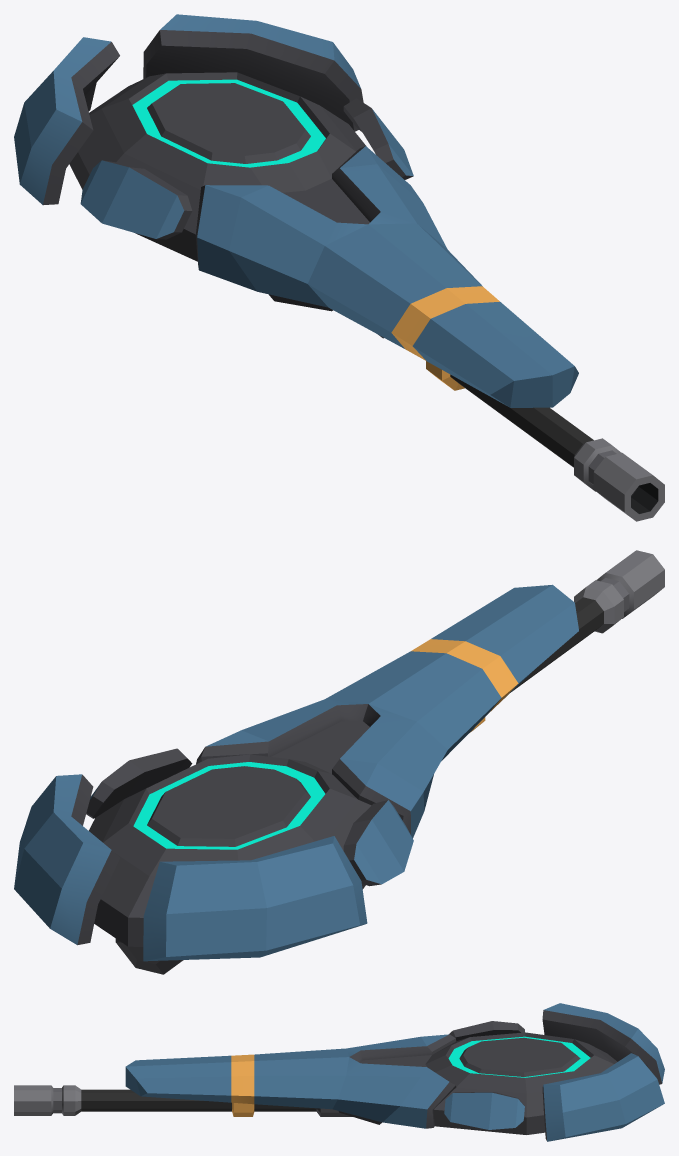
Rendered from Laser_Turret.glb.
3 views of the same model, one above another, from view 1: azimuth 30°, elevation 25°; view 2: azimuth 150°, elevation 25°; view 3: azimuth 270°, elevation 25° (orthographic). The views are drawn at different scales.
Parts seen in each view (by area): view 1: SM_Veh_Part_Misc_06; view 2: SM_Veh_Part_Misc_06; view 3: SM_Veh_Part_Misc_06.
Part boxes in pixels (x1=…): SM_Veh_Part_Misc_06: x1=14, y1=14, x2=664, y2=521; SM_Veh_Part_Misc_06: x1=14, y1=550, x2=664, y2=974; SM_Veh_Part_Misc_06: x1=14, y1=1003, x2=664, y2=1141.
Size of the model in its own units: 1.31 by 0.4842 by 3.58.
1 material, 1 textured.
